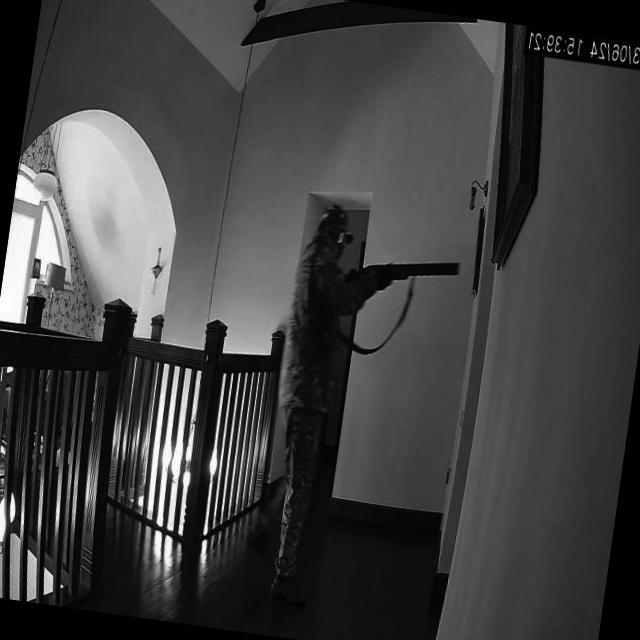gun: (338, 242, 462, 312)
person with a gun: (246, 198, 469, 626)
